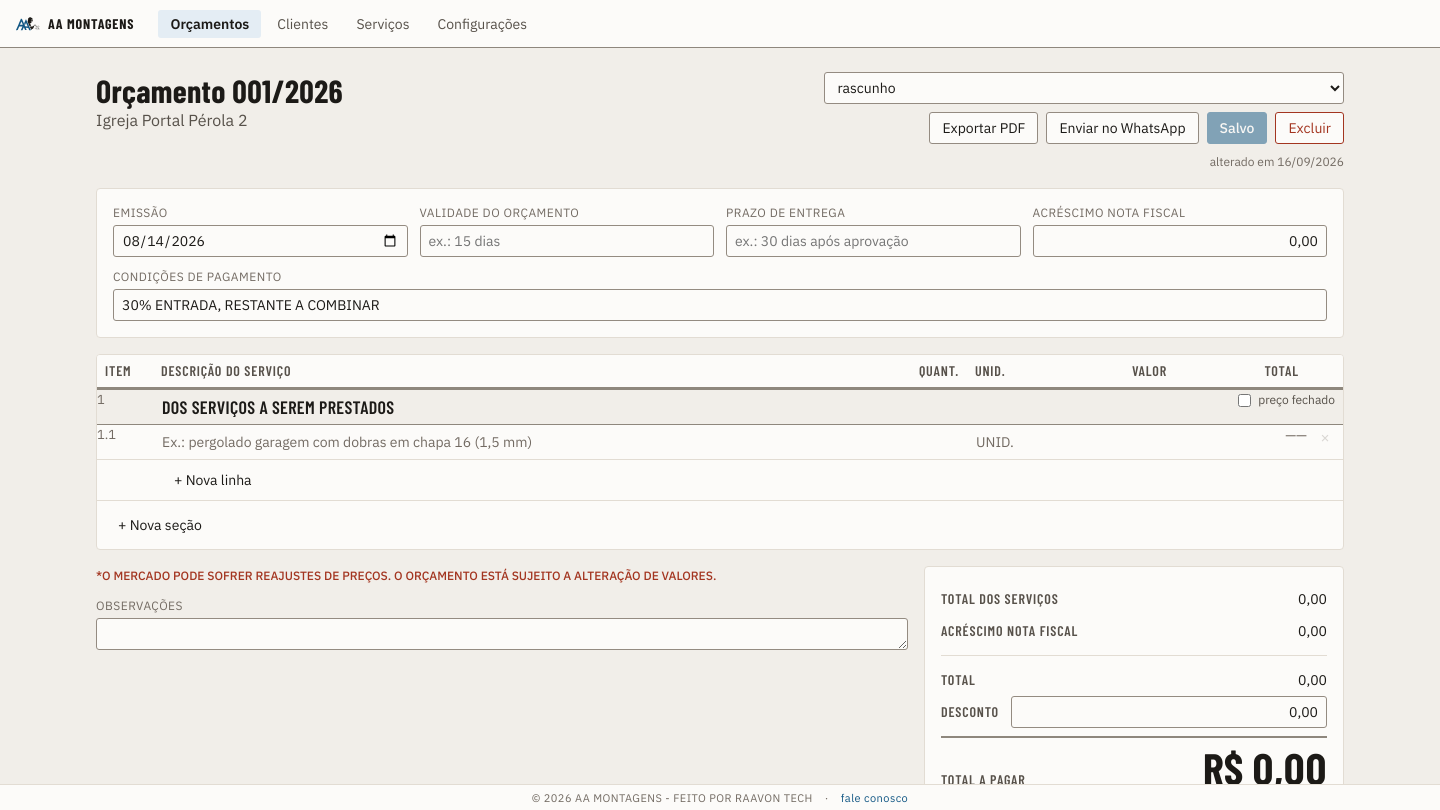
excluir orçamento › confirmar exclui e volta para a lista
Check: the heading "Orçamento 001/2026" is shown, box top-left (96, 71), bottom-right (343, 109)
Click the button with aria-label "Excluir o orçamento 001/2026" at (1310, 128), box top-left (1276, 112), bottom-right (1344, 144)
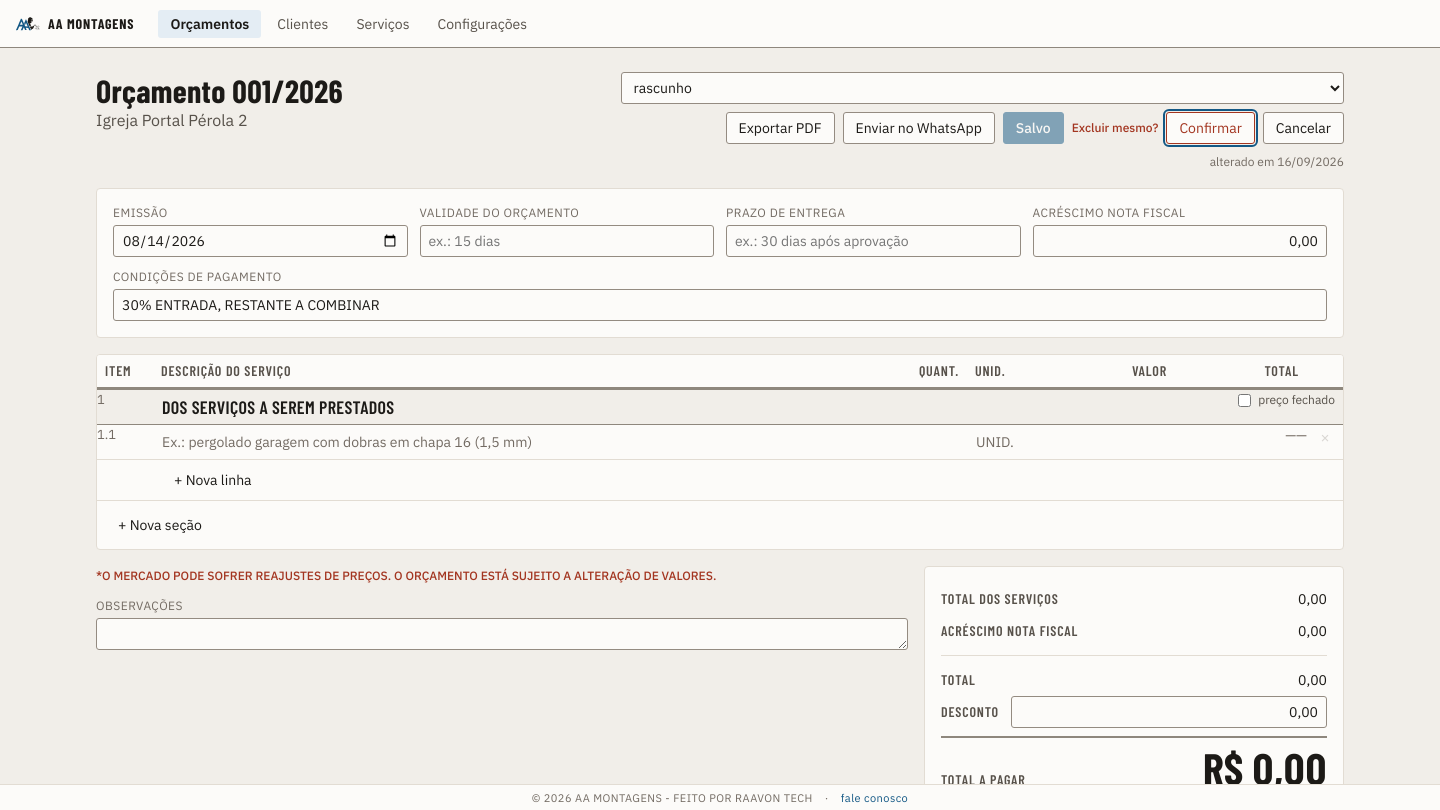
Click the button "Confirmar" at (1211, 128), box top-left (1166, 112), bottom-right (1255, 144)
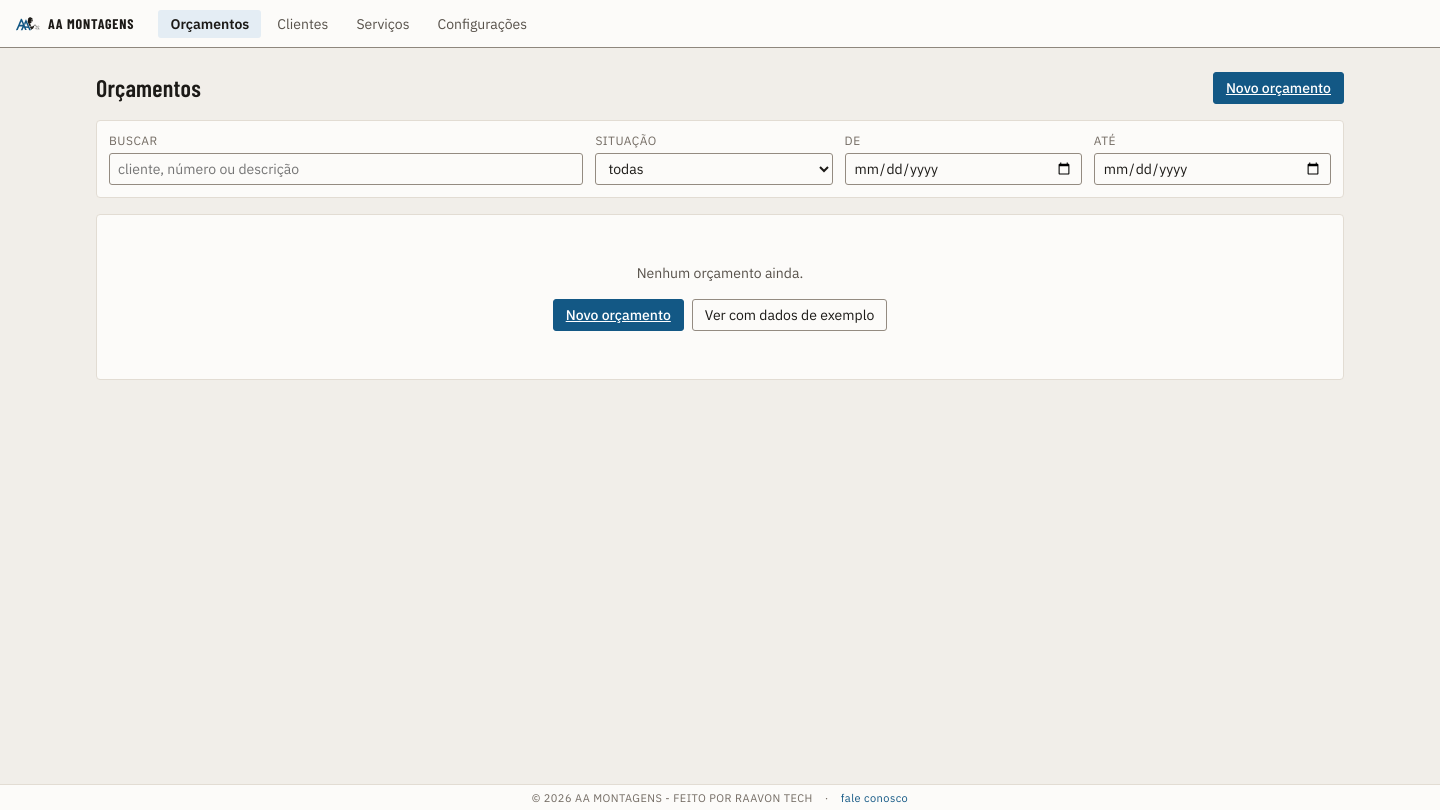
Check: the heading "Orçamentos" is shown, box top-left (96, 74), bottom-right (201, 102)
